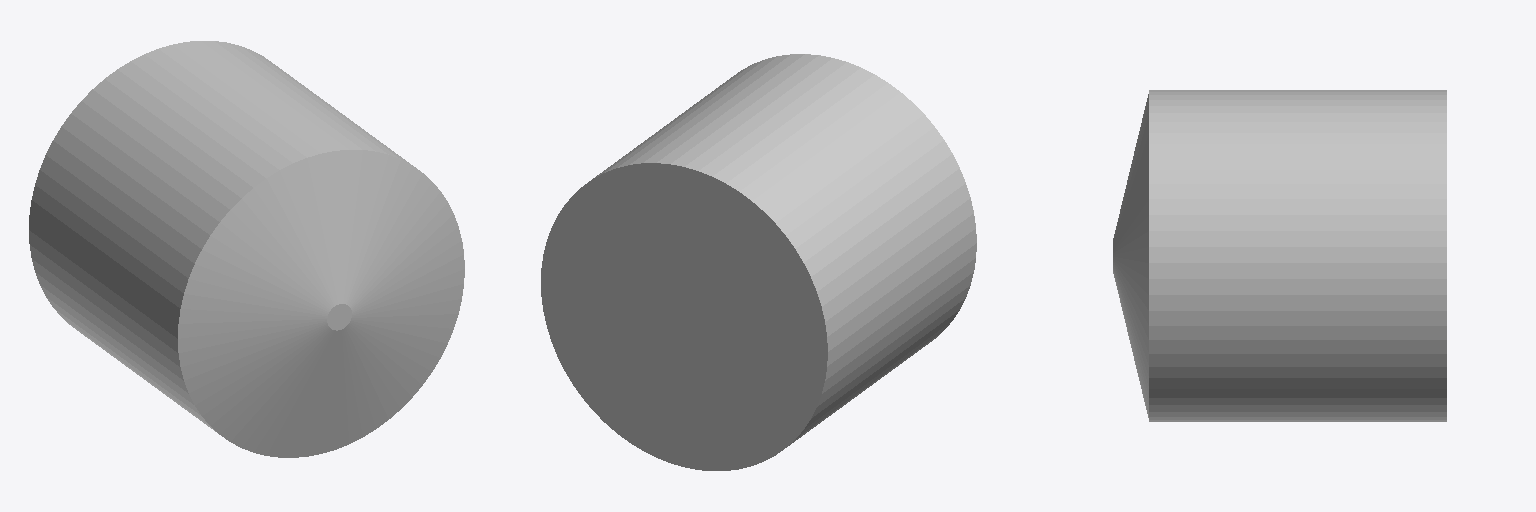
The model's file is Candle3b.obj.
3 renders of one model, left to right at view 1: azimuth 30°, elevation 25°; view 2: azimuth 150°, elevation 25°; view 3: azimuth 270°, elevation 25°, orthographic.
Visible parts, largest first — view 1: Candle3b_Cylinder.010; view 2: Candle3b_Cylinder.010; view 3: Candle3b_Cylinder.010.
Boxes of the visible parts, x1=… form: Candle3b_Cylinder.010: x1=29, y1=41, x2=464, y2=457; Candle3b_Cylinder.010: x1=541, y1=54, x2=976, y2=470; Candle3b_Cylinder.010: x1=1113, y1=90, x2=1446, y2=421.
Bounding box in the file's own units: 0.1829 × 0.1829 × 0.1846.